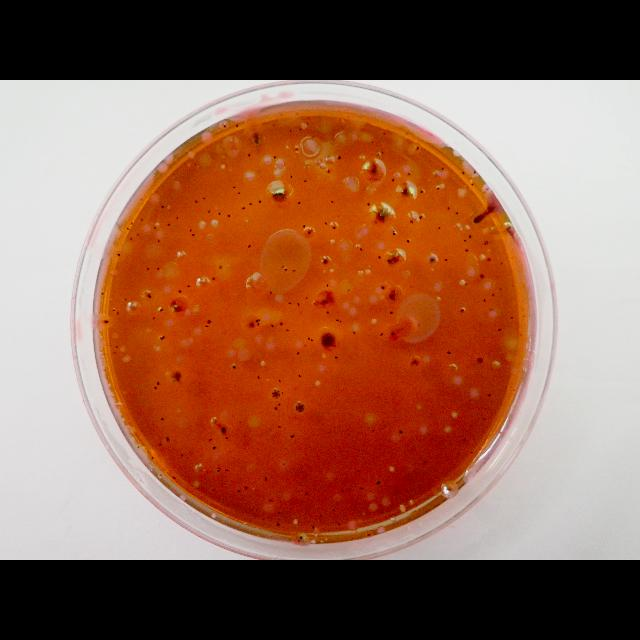colony: (272, 186, 288, 204), (319, 332, 336, 348), (374, 207, 390, 223), (471, 212, 485, 224), (400, 187, 412, 197), (428, 254, 437, 266), (172, 372, 182, 382), (253, 132, 261, 144), (369, 166, 378, 176), (322, 257, 331, 267), (388, 292, 397, 300), (476, 357, 484, 363), (221, 426, 227, 434), (322, 298, 328, 304), (446, 350, 452, 356), (386, 258, 392, 264), (156, 308, 164, 312), (434, 170, 438, 178), (326, 170, 332, 174), (336, 156, 342, 160), (420, 189, 424, 195), (436, 185, 440, 191), (487, 256, 491, 262), (104, 320, 110, 324), (352, 330, 356, 336), (250, 322, 254, 328), (380, 286, 386, 290), (390, 332, 396, 336), (412, 360, 418, 364), (398, 430, 404, 434), (406, 238, 410, 244), (232, 364, 236, 370), (186, 284, 192, 288), (212, 276, 216, 282), (219, 264, 223, 270), (306, 164, 310, 168), (290, 175, 294, 179), (303, 179, 307, 183), (297, 201, 301, 205), (258, 199, 262, 203), (218, 212, 222, 216), (126, 227, 130, 231), (140, 218, 144, 222), (408, 172, 412, 176), (468, 234, 472, 238), (464, 248, 468, 252), (480, 274, 484, 278), (482, 298, 486, 302), (487, 393, 491, 397), (463, 437, 467, 441), (405, 489, 409, 493), (332, 508, 336, 512), (312, 525, 316, 529), (276, 522, 280, 526), (225, 468, 229, 472), (172, 476, 176, 480), (156, 381, 160, 385), (207, 320, 211, 324), (205, 324, 209, 328), (147, 294, 151, 298), (178, 290, 182, 294), (281, 265, 285, 269), (304, 296, 308, 300), (296, 302, 300, 306), (279, 322, 283, 326), (270, 324, 274, 328), (296, 351, 300, 355), (298, 374, 302, 378), (274, 407, 278, 411), (376, 481, 380, 485), (264, 477, 268, 481), (389, 311, 393, 315), (290, 434, 294, 438), (277, 425, 281, 429), (410, 220, 414, 224), (377, 255, 381, 259), (332, 226, 336, 230), (324, 222, 328, 226), (392, 232, 396, 236), (419, 216, 423, 220), (330, 200, 334, 204), (367, 202, 371, 206), (374, 220, 378, 224), (402, 182, 406, 186), (444, 258, 448, 262), (460, 308, 464, 312), (498, 287, 502, 291), (490, 307, 494, 311), (464, 282, 468, 286), (227, 215, 231, 218), (195, 200, 198, 204), (136, 232, 140, 235), (130, 236, 132, 242), (376, 152, 379, 156), (486, 187, 489, 191), (486, 240, 488, 246), (511, 316, 514, 320), (470, 451, 474, 454), (423, 461, 427, 464), (366, 534, 372, 536), (212, 488, 215, 492), (167, 438, 170, 442), (326, 310, 329, 314), (338, 321, 342, 324), (334, 356, 338, 359), (381, 332, 384, 336), (302, 225, 306, 228), (416, 146, 419, 150), (242, 207, 245, 210), (232, 187, 235, 190), (245, 486, 248, 489), (361, 486, 364, 489), (212, 446, 215, 449), (274, 155, 276, 159), (296, 147, 298, 151), (190, 228, 192, 232), (154, 226, 156, 230), (158, 239, 160, 243), (162, 205, 164, 209), (256, 144, 258, 148), (236, 124, 238, 128), (224, 124, 226, 128), (312, 135, 314, 139), (371, 140, 373, 144), (382, 151, 384, 155), (392, 178, 394, 182), (442, 167, 444, 171), (462, 171, 464, 175), (474, 171, 476, 175), (456, 211, 458, 215), (448, 207, 450, 211), (498, 328, 500, 332), (482, 418, 486, 420), (382, 510, 384, 514), (338, 522, 340, 526), (320, 514, 322, 518), (300, 535, 302, 539), (262, 517, 264, 521), (181, 453, 183, 457), (158, 444, 162, 446), (152, 456, 154, 460), (138, 445, 140, 449), (163, 335, 165, 339), (153, 316, 155, 320), (124, 298, 128, 300), (117, 311, 119, 315), (117, 254, 121, 256), (248, 244, 250, 248), (292, 270, 296, 272), (288, 302, 292, 304), (336, 318, 338, 322), (308, 336, 310, 340), (310, 339, 314, 341), (286, 329, 290, 331), (257, 322, 259, 326), (258, 375, 260, 379), (278, 402, 280, 406), (357, 470, 361, 472), (341, 490, 345, 492), (306, 492, 308, 496), (208, 439, 212, 441), (348, 288, 350, 292), (308, 231, 310, 235), (382, 132, 386, 134), (520, 333, 522, 337), (299, 406, 301, 410), (302, 408, 304, 412), (250, 202, 252, 205), (208, 210, 210, 213), (202, 198, 205, 200), (176, 217, 178, 220), (194, 162, 196, 165), (471, 184, 474, 186), (483, 190, 485, 193), (438, 227, 440, 230), (217, 467, 220, 469), (217, 469, 220, 471), (160, 418, 163, 420), (154, 386, 156, 389), (161, 336, 163, 339), (102, 292, 105, 294), (258, 170, 260, 173), (238, 192, 240, 194), (192, 234, 194, 236), (168, 224, 170, 226), (131, 222, 133, 224), (248, 154, 250, 156), (290, 130, 292, 132), (299, 128, 301, 130), (464, 240, 466, 242), (484, 242, 486, 244), (500, 262, 502, 264), (492, 294, 494, 296), (278, 512, 280, 514), (238, 490, 240, 492), (160, 474, 162, 476), (113, 309, 115, 311), (147, 268, 149, 270), (158, 268, 160, 270), (285, 268, 287, 270), (270, 292, 272, 294), (256, 320, 258, 322), (279, 380, 281, 382), (270, 500, 272, 502), (226, 437, 228, 439), (327, 284, 329, 286), (372, 430, 374, 432), (281, 392, 283, 394), (360, 248, 362, 250), (393, 230, 395, 232), (116, 346, 118, 348), (110, 344, 112, 346), (274, 390, 276, 392), (277, 390, 279, 392), (278, 394, 280, 396), (272, 392, 274, 394), (298, 403, 300, 405), (296, 406, 298, 408), (296, 409, 298, 411), (302, 404, 304, 406), (299, 411, 301, 412)
